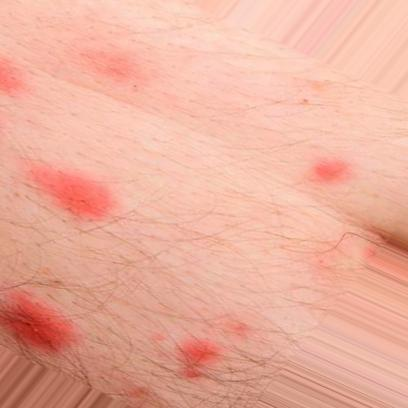Fleas: (14, 159, 123, 226), (0, 285, 81, 366), (67, 37, 155, 93), (298, 150, 364, 188), (173, 333, 224, 381), (0, 48, 23, 96)
